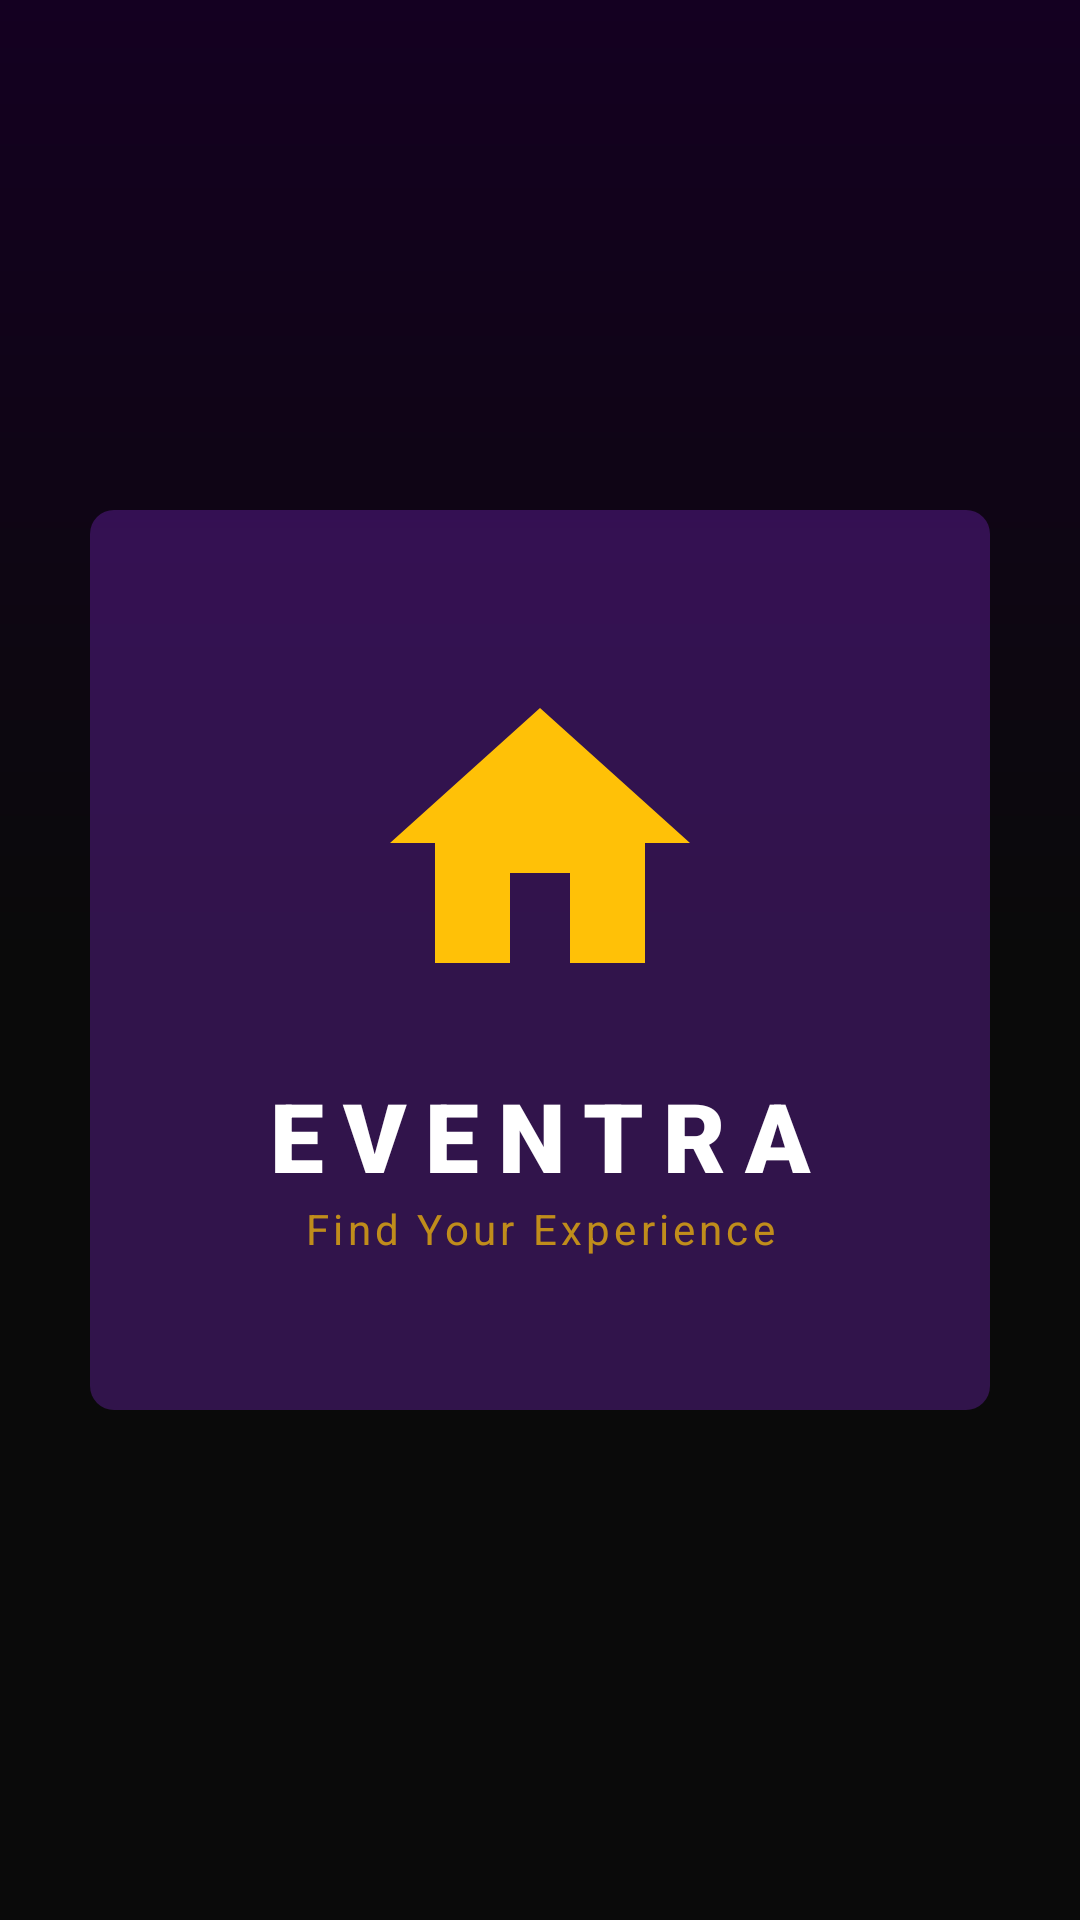

Where to tap for icons on this 1080 × 1920 app screen, as [x,y]:
home: [540,835]
